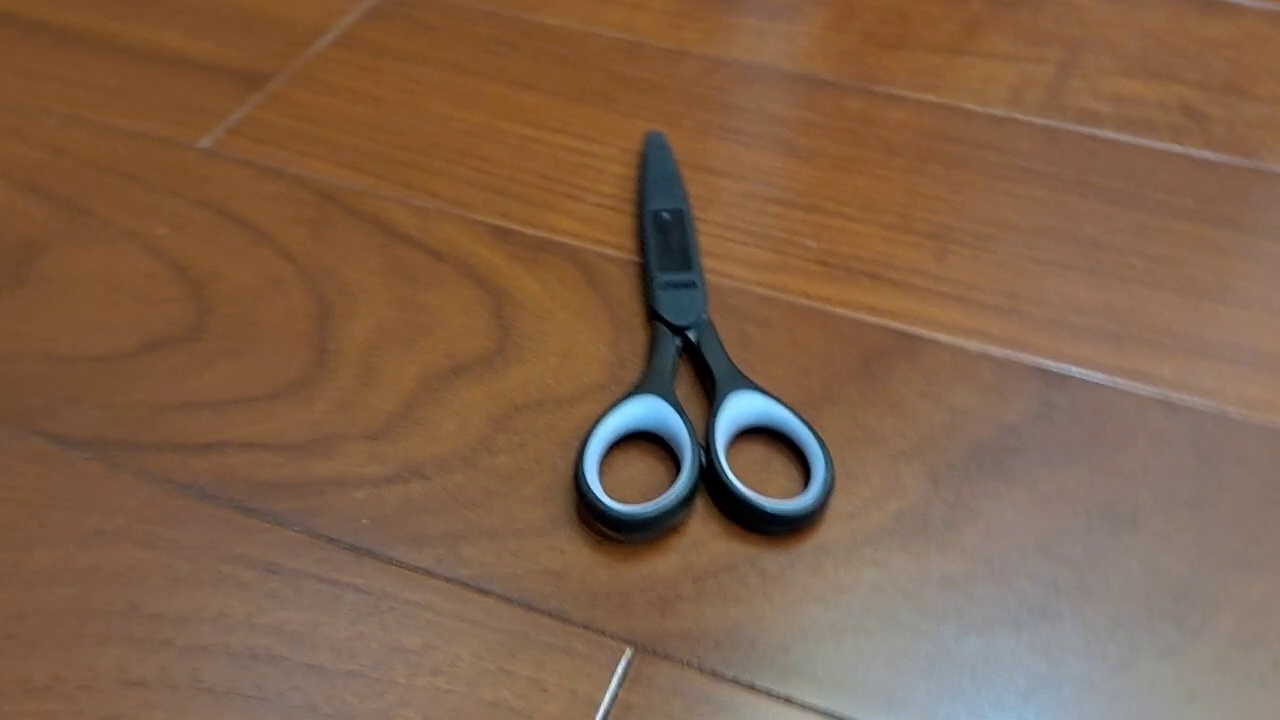scissors: (572, 128, 836, 546)
